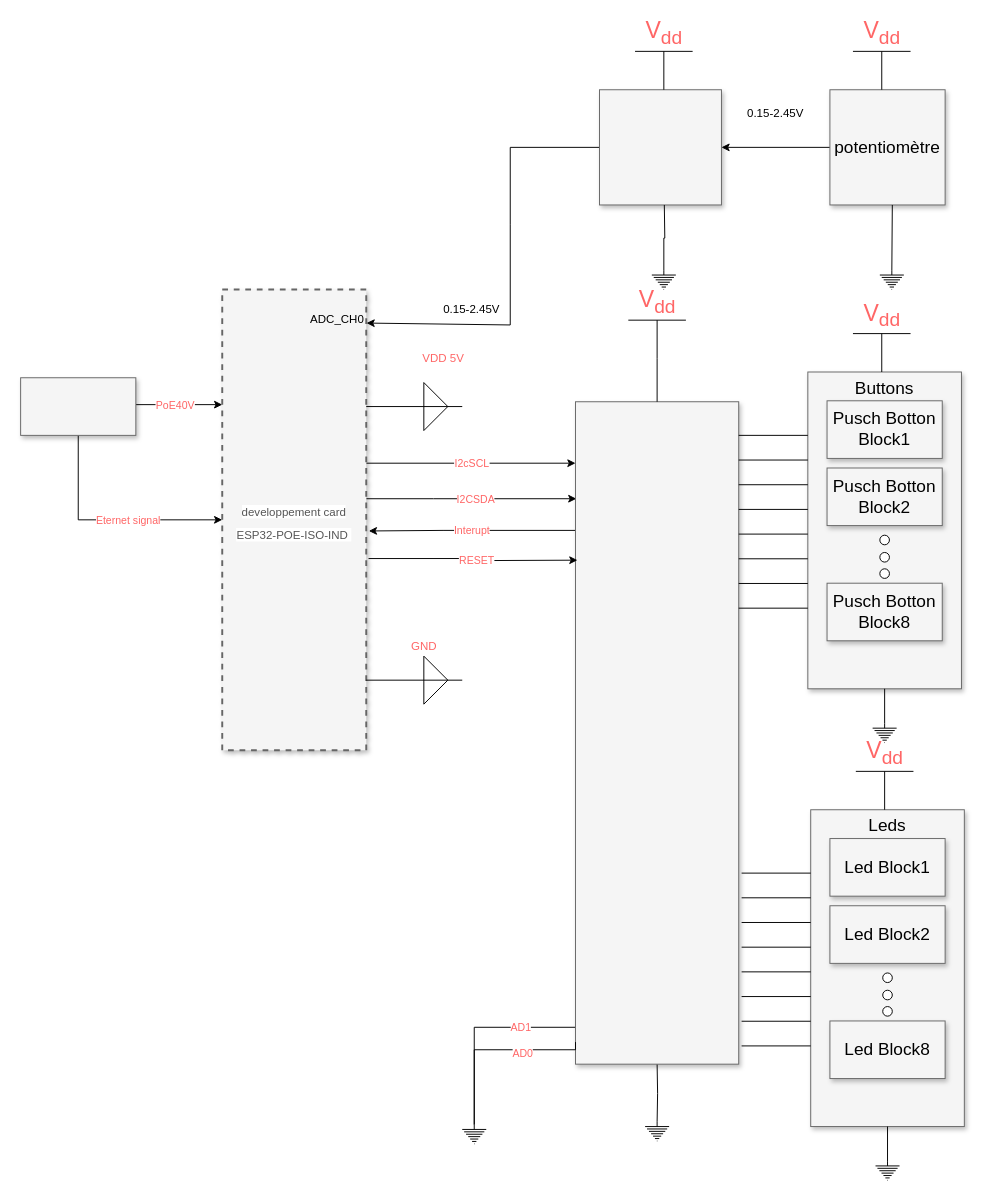
The diagram is 987 pixels wide and 1197 high, and some of its shapes have lost their labels. The centre of each missing label's shape, as x and y in pixels:
"Ethernet PoE" goes at [79,407].
"GPIO Extend MCP23018-E/SS" goes at [657,734].
"potentiomètre filtre AOP" goes at [661,148].
